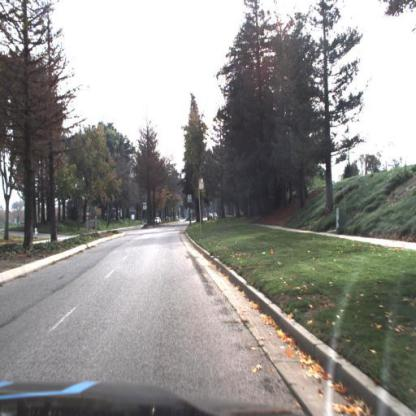car: (154, 218, 162, 225)
